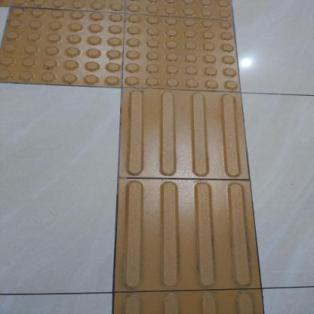Podoctatil: (0, 0, 271, 313)
